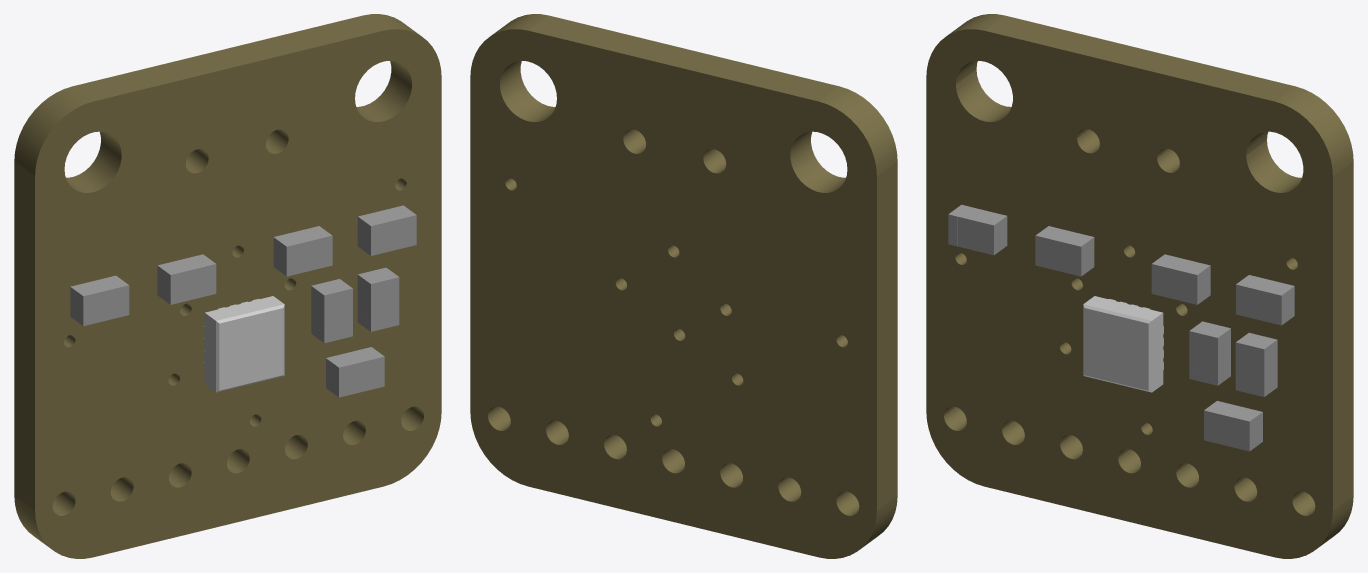
Rendered from max98357a.glb.
3 renders of one model, left to right at view 1: azimuth 30°, elevation 25°; view 2: azimuth 150°, elevation 25°; view 3: azimuth 330°, elevation 25°, orthographic.
Parts seen in each view (by area): view 1: Board, 0805-NO (×7), part9; view 2: Board; view 3: Board, 0805-NO (×7), part9.
Boxes of the visible parts, x1,y1,x2,y2 form: Board: [14, 14, 441, 558]; 0805-NO (×7): [70, 205, 416, 397]; part9: [204, 296, 284, 392]; Board: [470, 14, 897, 558]; Board: [926, 14, 1353, 558]; 0805-NO (×7): [948, 204, 1294, 451]; part9: [1083, 296, 1163, 392].
Bounding box in the file's own units: 0.0178 × 0.0191 × 0.00257.
